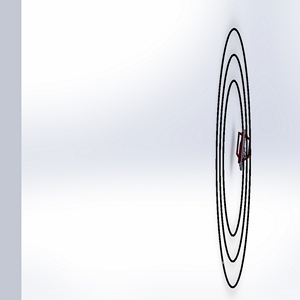circle: (200, 19, 263, 292)
submarine: (230, 128, 256, 172)
